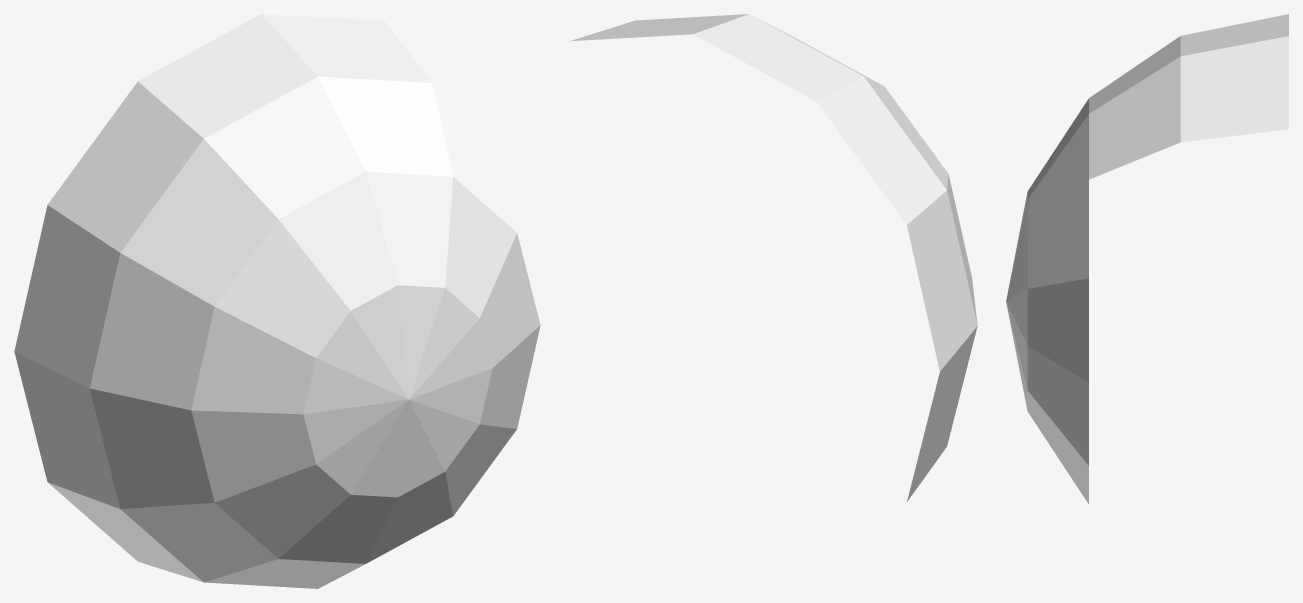
The model's file is hair_short.glb.
The picture shows the model from 3 angles, left to right: view 1: azimuth 30°, elevation 25°; view 2: azimuth 150°, elevation 25°; view 3: azimuth 270°, elevation 25°; orthographic projection. The views are drawn at different scales.
Visible parts, largest first — view 1: hair_short; view 2: hair_short; view 3: hair_short.
Boxes of the visible parts, x1,y1,x2,y2 form: hair_short: [14, 14, 540, 588]; hair_short: [570, 14, 977, 501]; hair_short: [1006, 14, 1288, 504].
Size of the model in its own units: 0.4695 by 0.59 by 0.285.
1 material, 1 textured.
